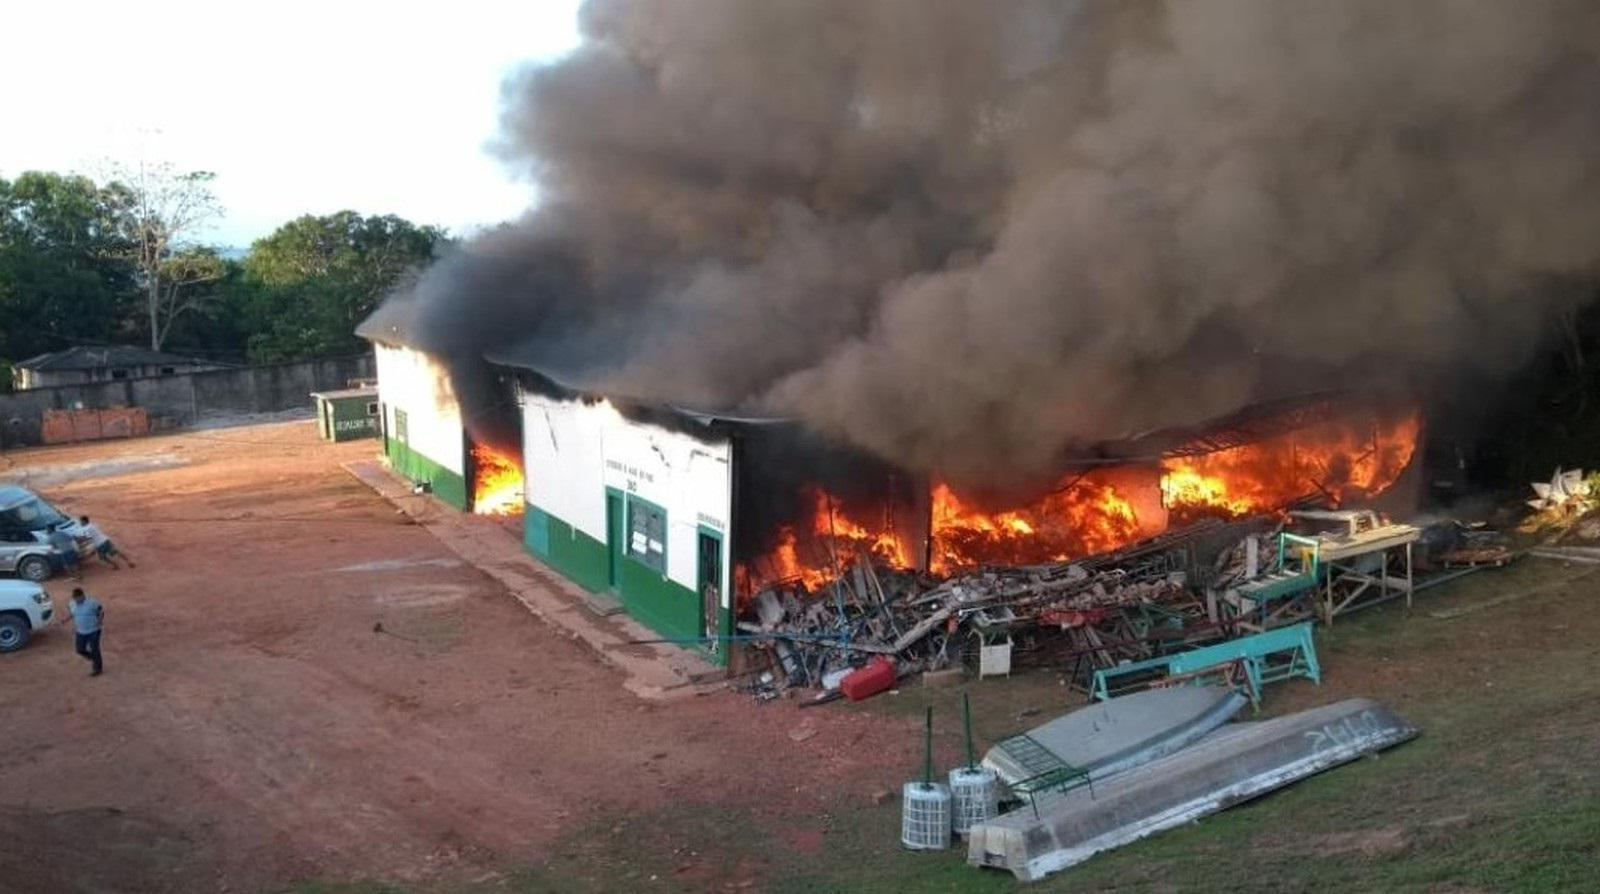Fire: (1168, 398, 1426, 544), (925, 463, 1151, 591), (740, 478, 915, 608), (464, 442, 530, 524)
